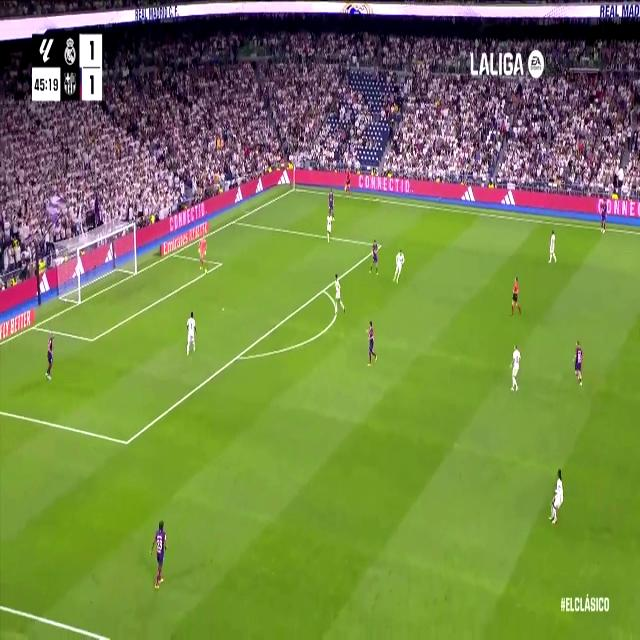bigarea_bottom_inner: (122, 430, 132, 454)
bigarea_top_inner: (377, 239, 382, 251)
bigarea_top_outter: (230, 213, 238, 227)
bottom_arc_area_intersection: (233, 346, 243, 365)
corner: (290, 182, 298, 193)
smallarea_bottom_inner: (88, 330, 96, 349)
smallarea_bottom_outter: (30, 319, 38, 333)
smallarea_top_inner: (216, 256, 224, 269)
top_arc_area_intersection: (320, 282, 328, 296)
